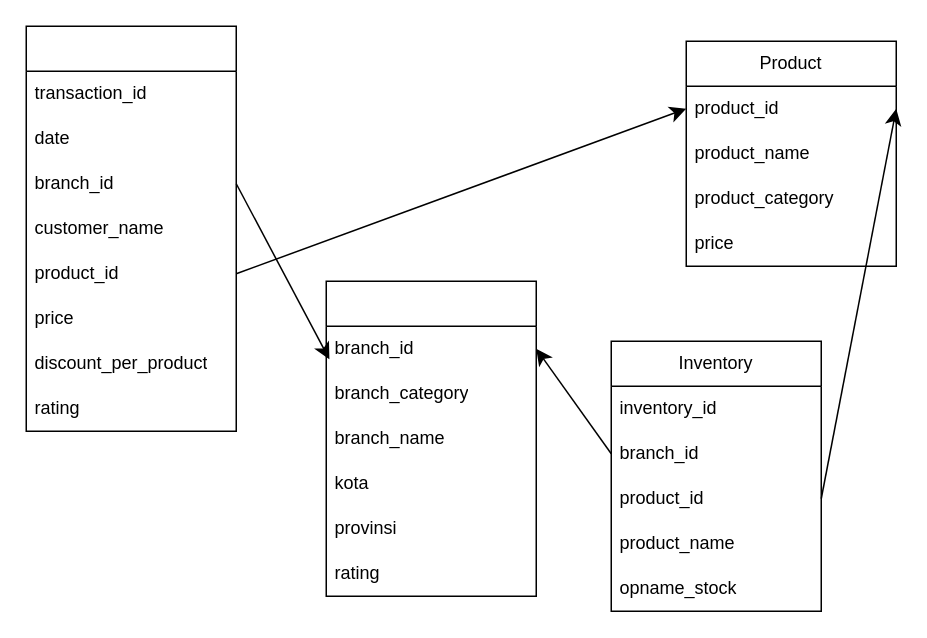
Image size: 927x638. Some labels were removed from this diagram. Here are the shapes that lost their labels. From the top down, the box of each, then its label:
(25, 25, 236, 431): Final_Transaction
(325, 280, 536, 596): Kantor_Cabang
